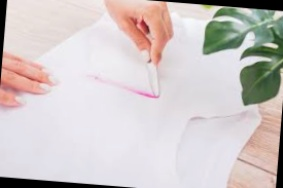lipstick: (84, 81, 162, 102)
